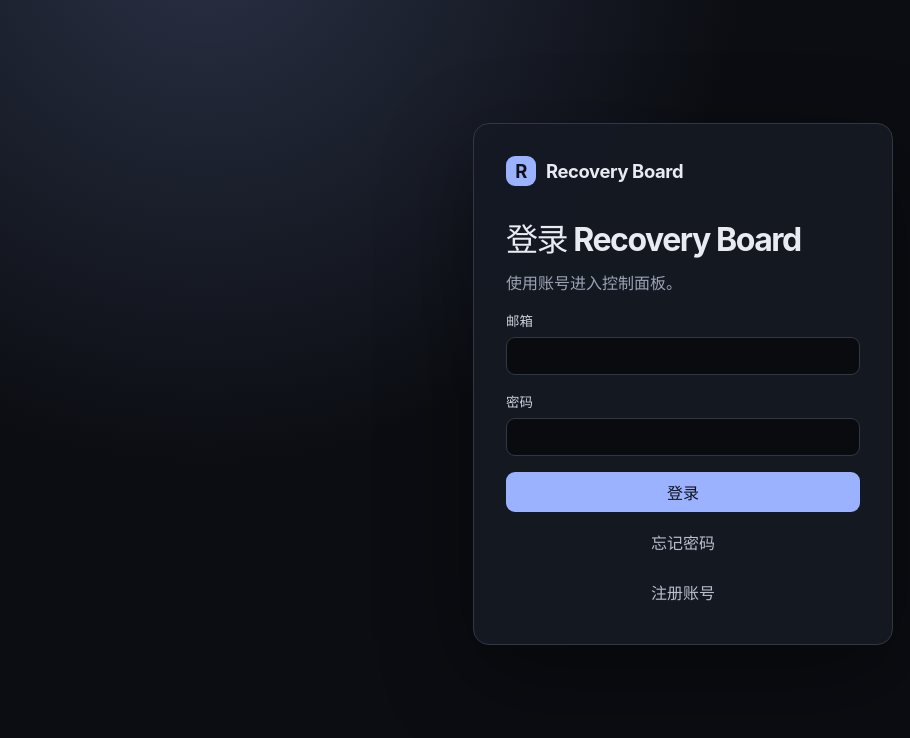
App public identity bootstrap › opens the legacy password recovery fields from the login page
This screenshot has width=910, height=738.
Click the button "忘记密码" at (683, 542), box [506, 522, 860, 562]
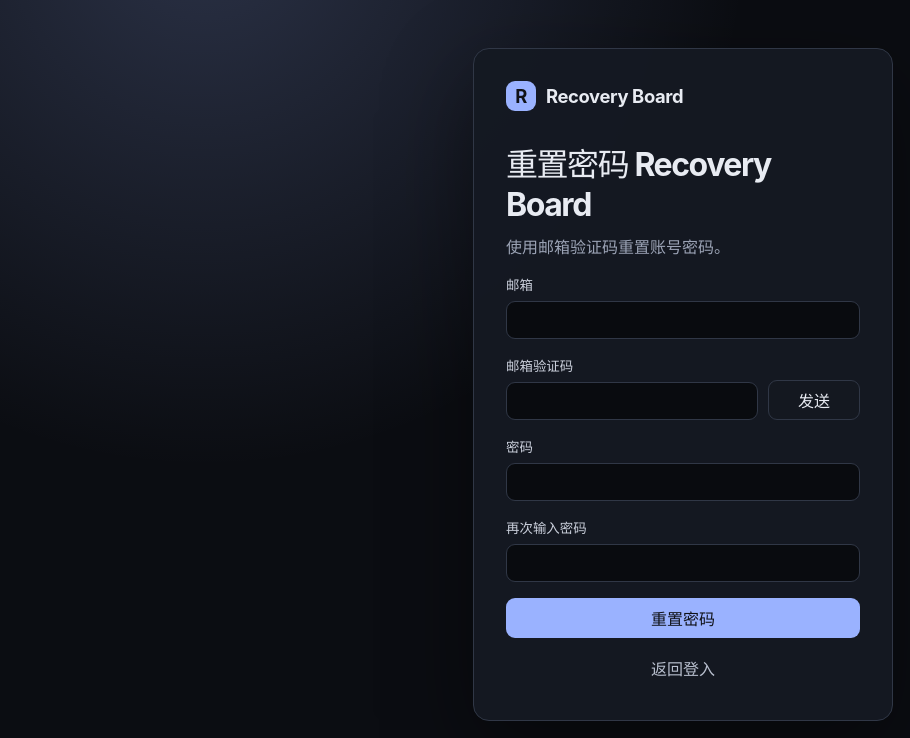
Now the heading "重置密码 Recovery Board" is shown, box [506, 144, 771, 224]
Now the field labelled "邮箱验证码" is shown, box [506, 382, 758, 420]
Now the password field labelled "再次输入密码" is shown, box [506, 544, 860, 582]
